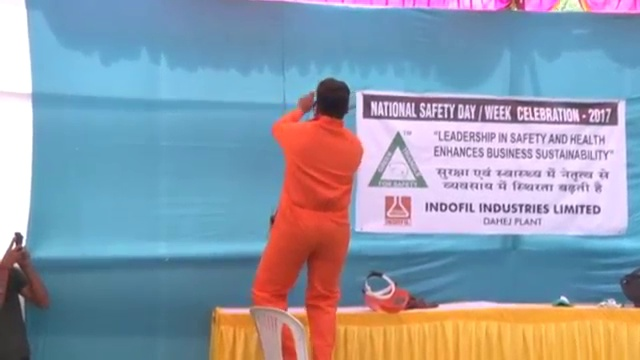helmet_off: (314, 78, 350, 121)
person: (254, 76, 354, 360), (1, 230, 43, 358)
